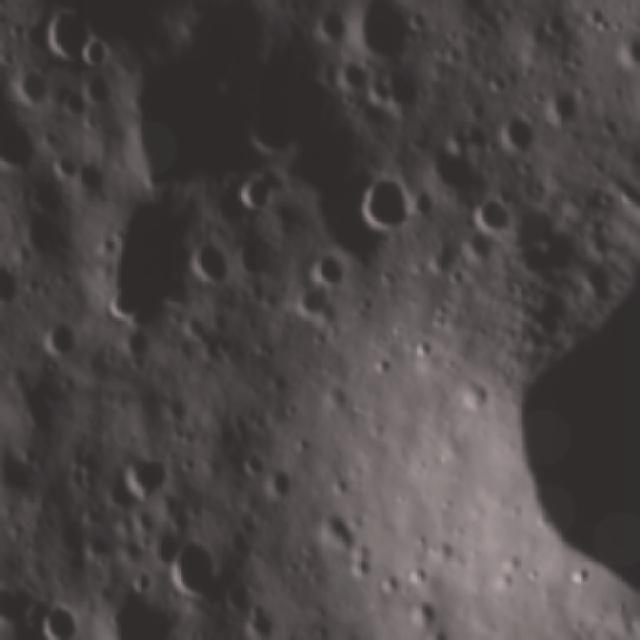crater: (39, 7, 112, 75), (158, 531, 217, 607), (357, 170, 421, 238), (358, 0, 419, 62), (418, 132, 477, 195), (114, 445, 169, 507), (314, 500, 360, 566), (298, 245, 360, 289), (183, 240, 234, 288), (102, 286, 152, 332), (498, 108, 540, 161), (468, 192, 514, 237), (235, 172, 282, 215), (38, 316, 79, 362), (38, 592, 78, 638), (74, 34, 118, 74), (334, 50, 378, 90), (544, 85, 584, 124), (10, 65, 48, 104), (79, 72, 115, 110), (129, 564, 163, 598), (263, 456, 291, 496), (318, 6, 354, 34), (57, 86, 85, 115)
